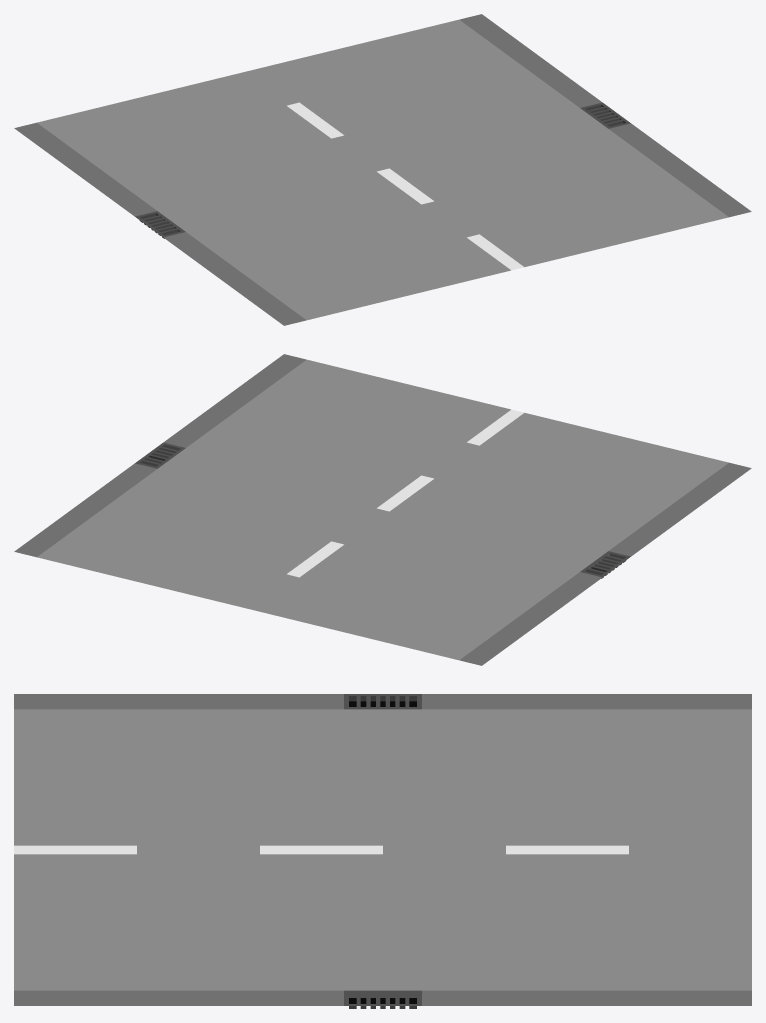
Rendered from modRoadStraight.fbx.
3 views of the same model, one above another, from view 1: azimuth 30°, elevation 25°; view 2: azimuth 150°, elevation 25°; view 3: azimuth 270°, elevation 25° (orthographic). The views are drawn at different scales.
Parts seen in each view (by area): view 1: modRoadStraight; view 2: modRoadStraight; view 3: modRoadStraight.
Part boxes in pixels (bbox=[...]): modRoadStraight: bbox=[14, 14, 751, 325]; modRoadStraight: bbox=[14, 354, 751, 665]; modRoadStraight: bbox=[14, 694, 751, 1008].
Size of the model in its own units: 10 by 0.0765 by 10.
